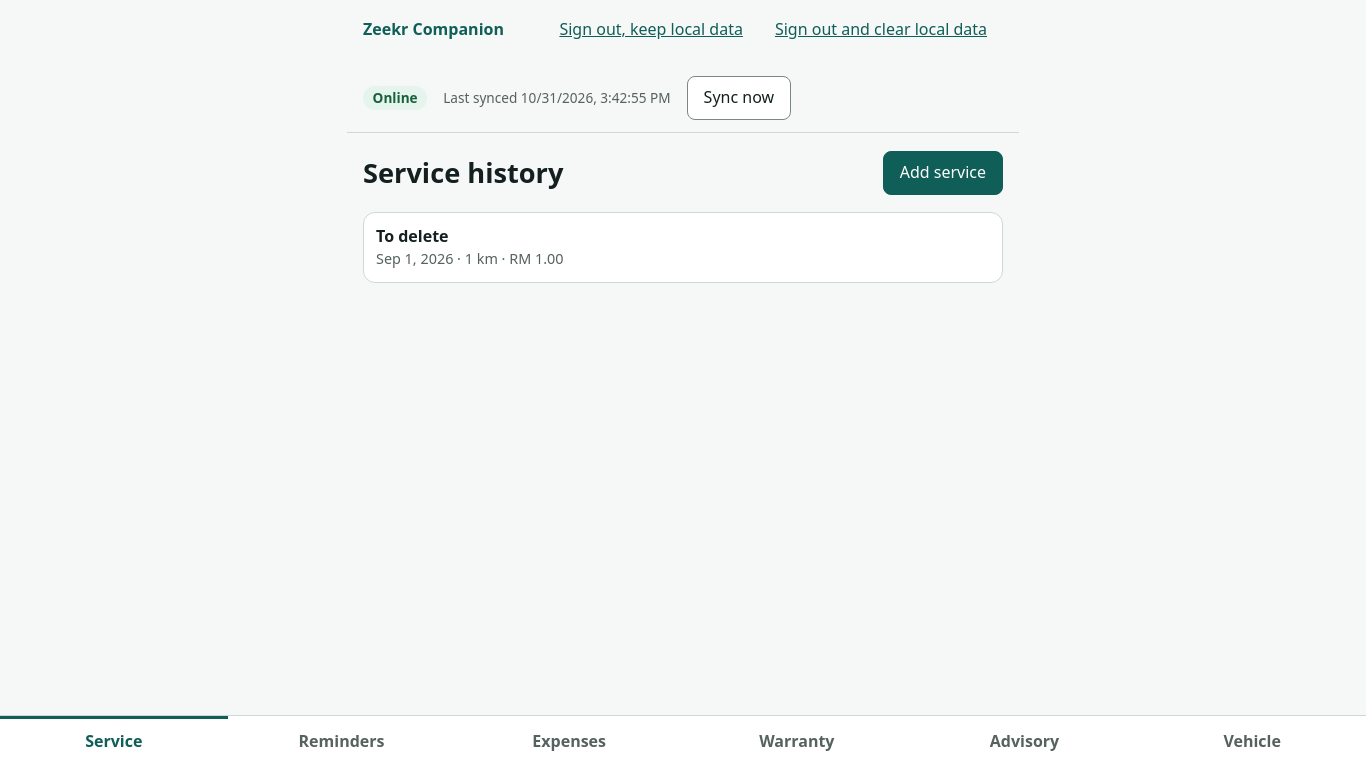
App flows › delete asks for confirmation before anything is sent
Click the link "To delete Sep 1, 2026 · 1 km · RM 1.00" at (470, 246), box [376,225,564,268]
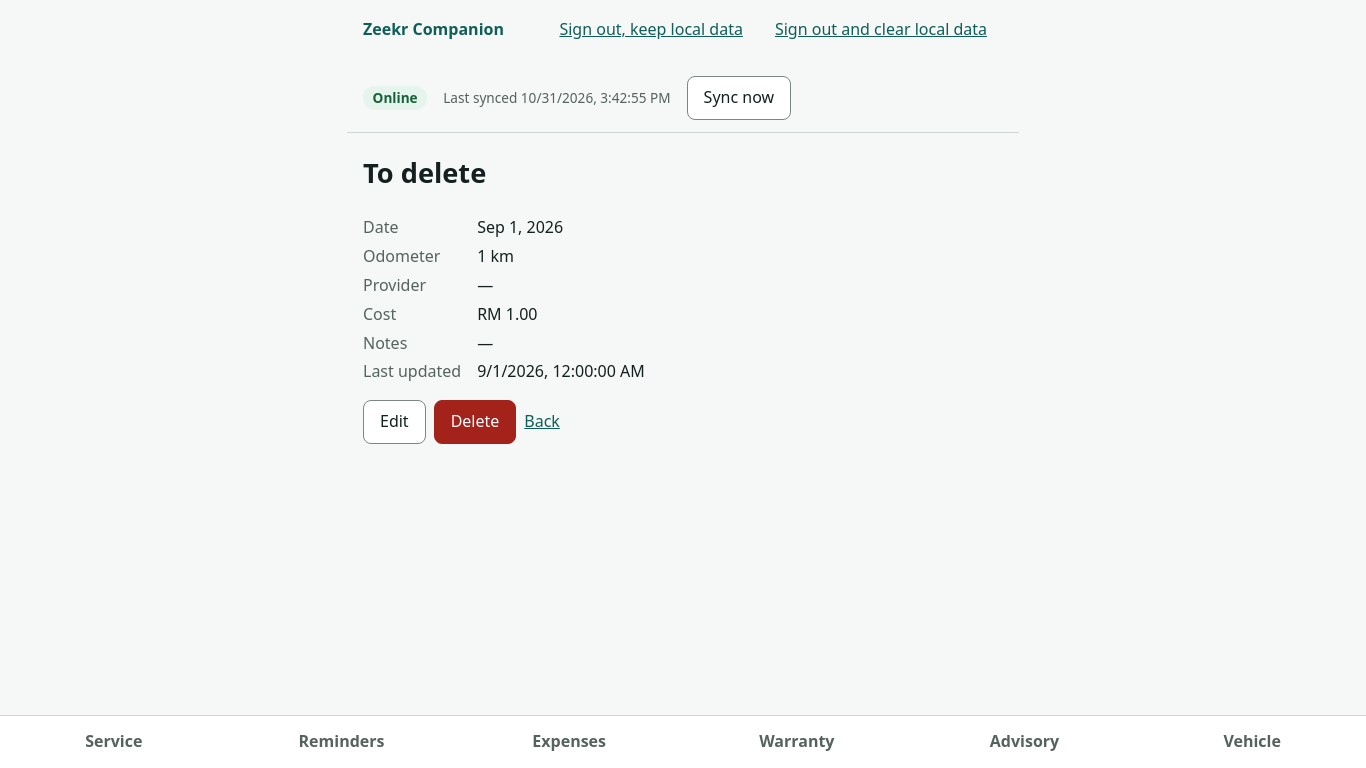
Click the button "Delete" at (475, 422), box [434,400,516,444]
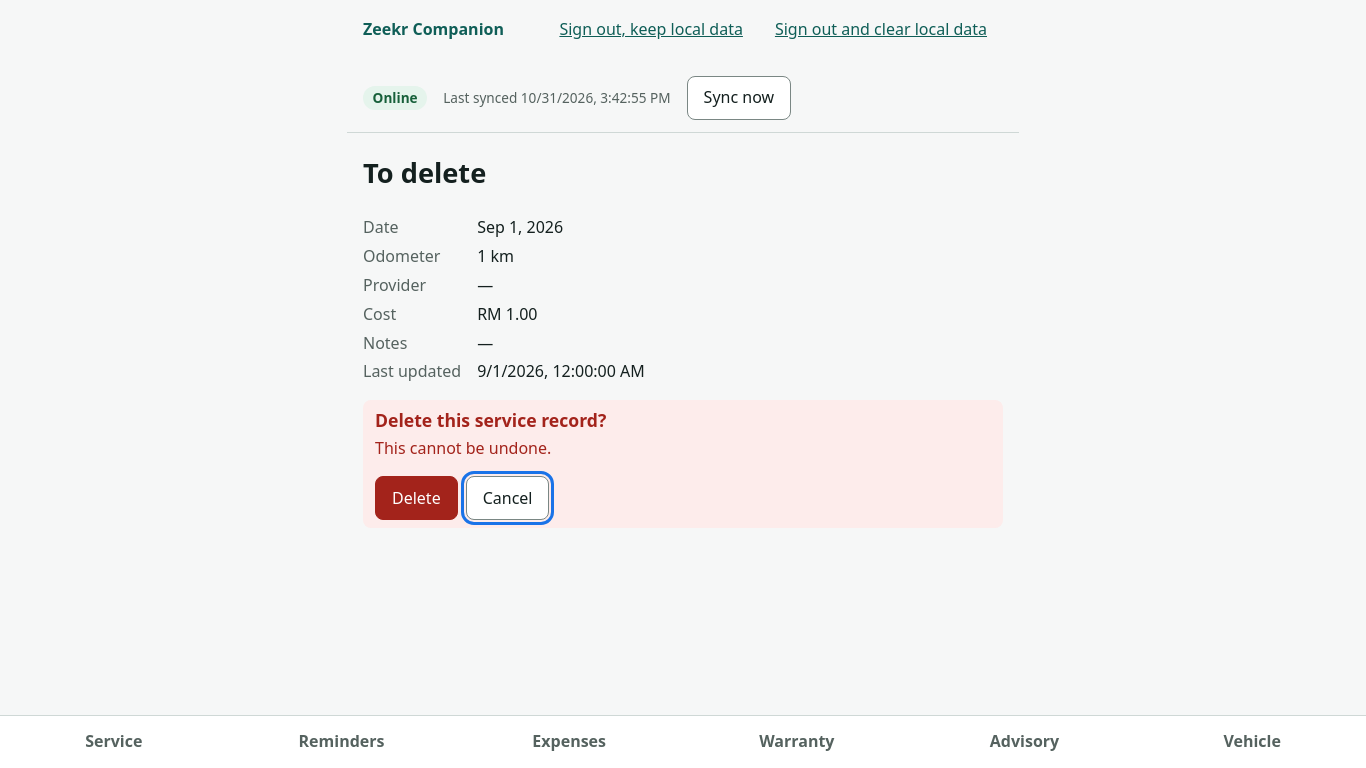
Click the button "Cancel" at (508, 498), box [466,476,550,520]
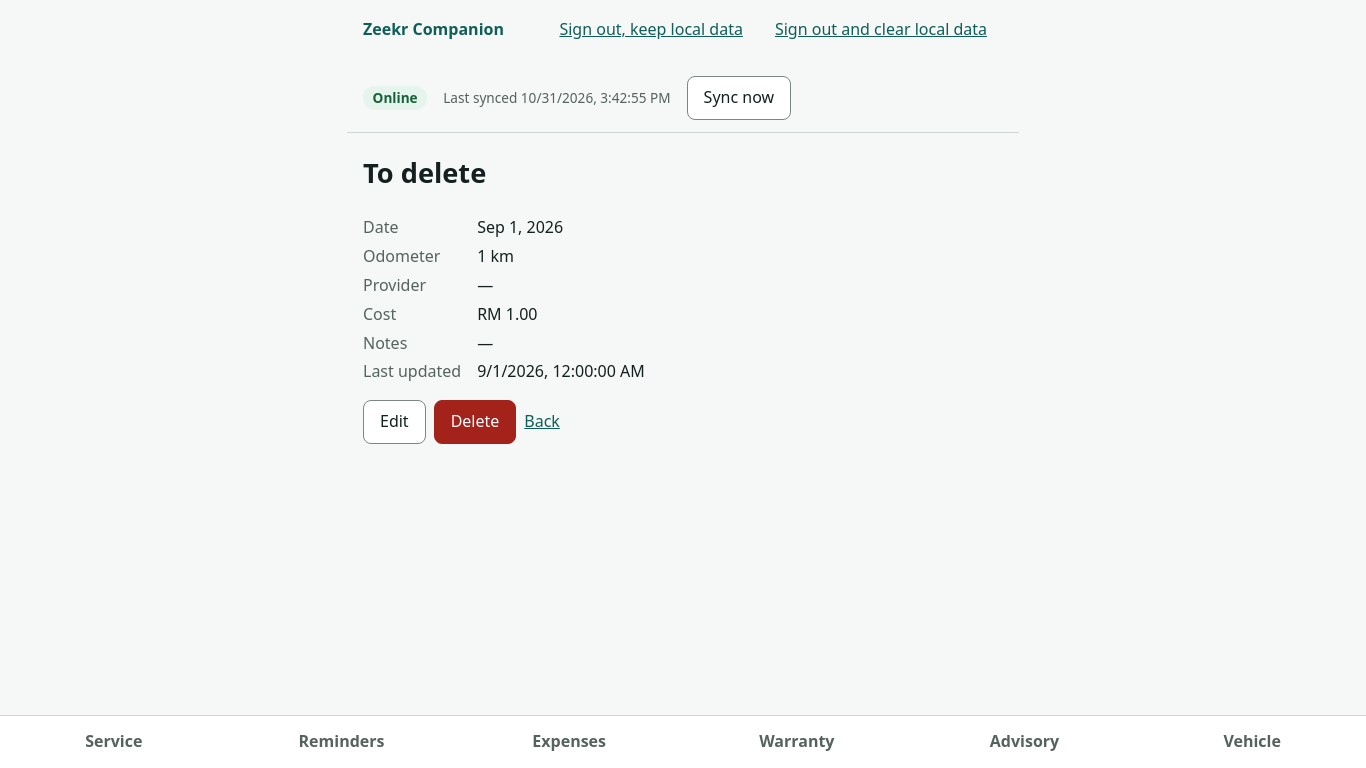
Click the button "Delete" at (475, 422), box [434,400,516,444]
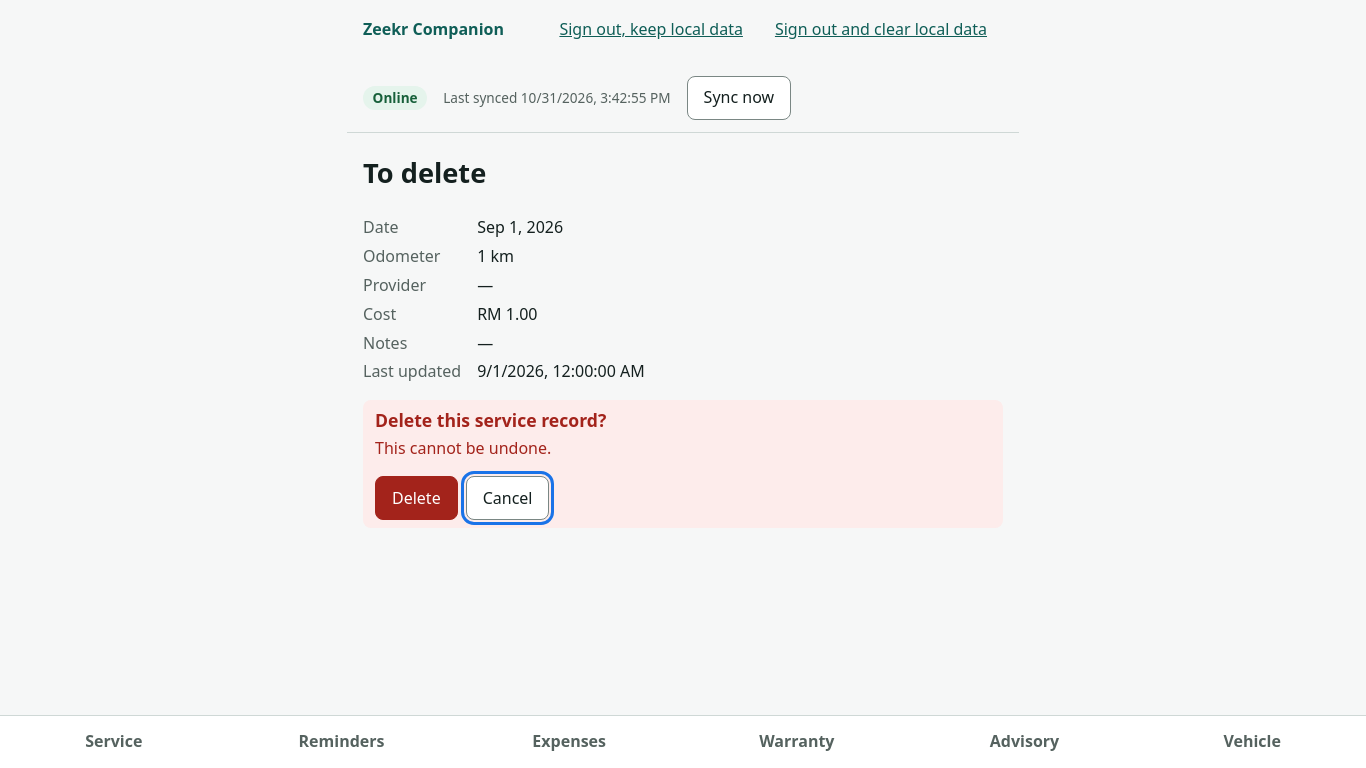
Click the button "Delete" at (416, 498), box [375,476,458,520]
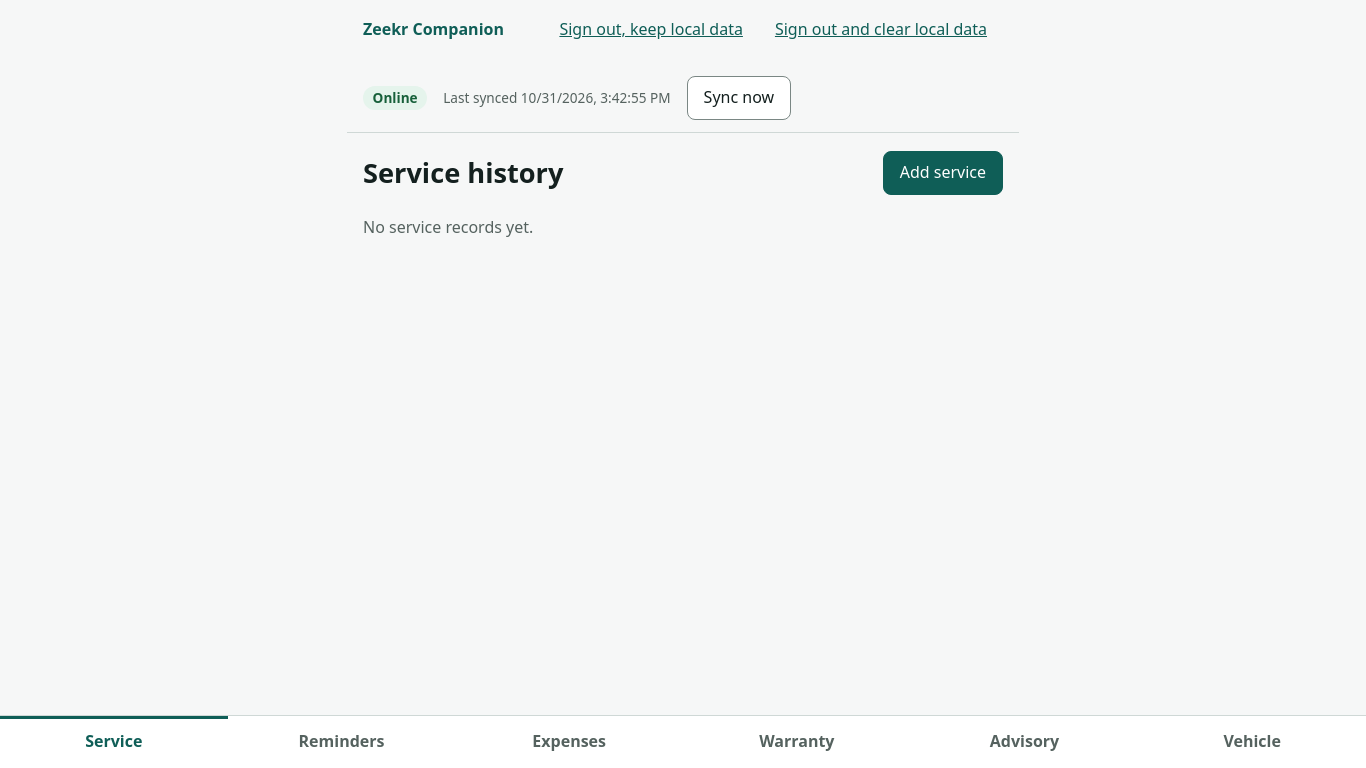
Expected: the heading "To delete" is gone
